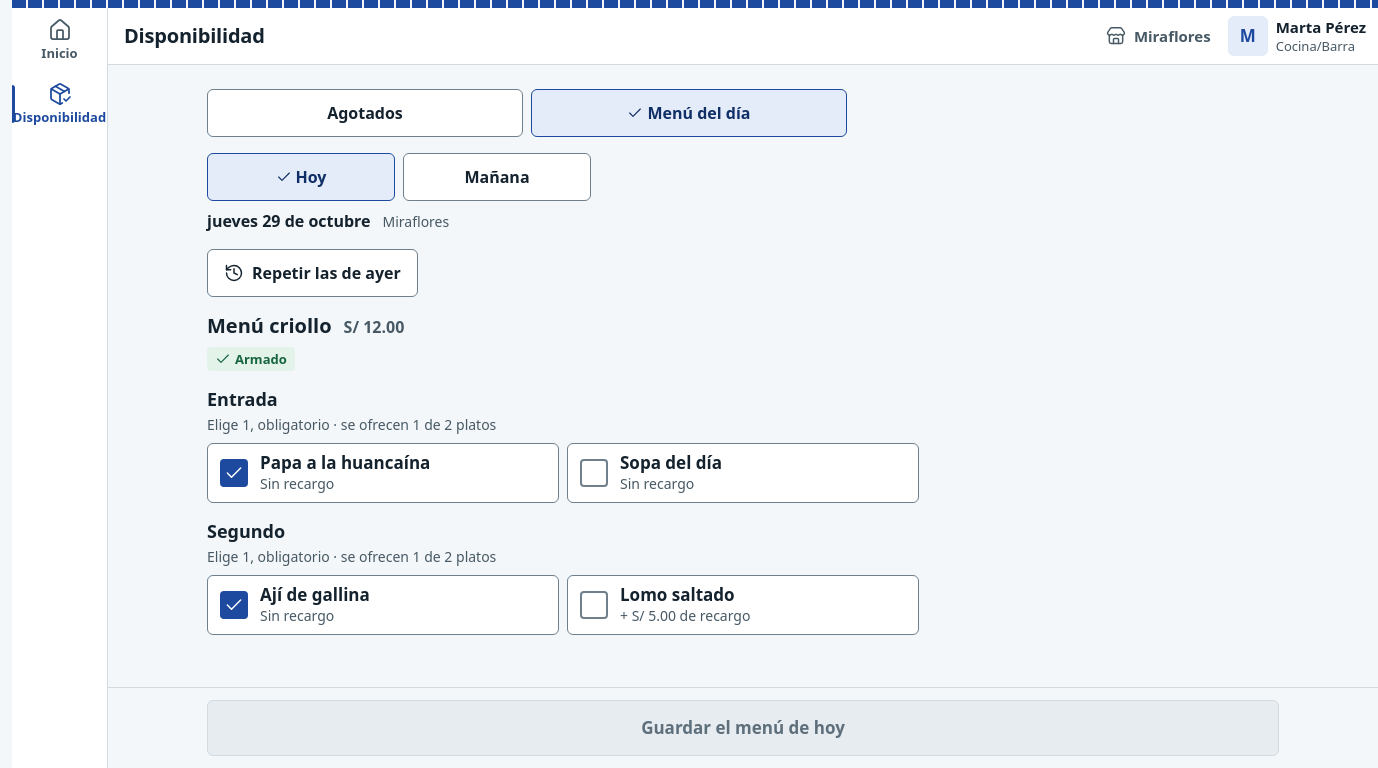
Test: menú del día: armar › lo marcado en un día no se pierde al cambiar de pestaña y se avisa
(page scrolled)
Click the checkbox labelled "Sopa del día Sin recargo".
click(671, 462)  # box [567, 443, 919, 503]
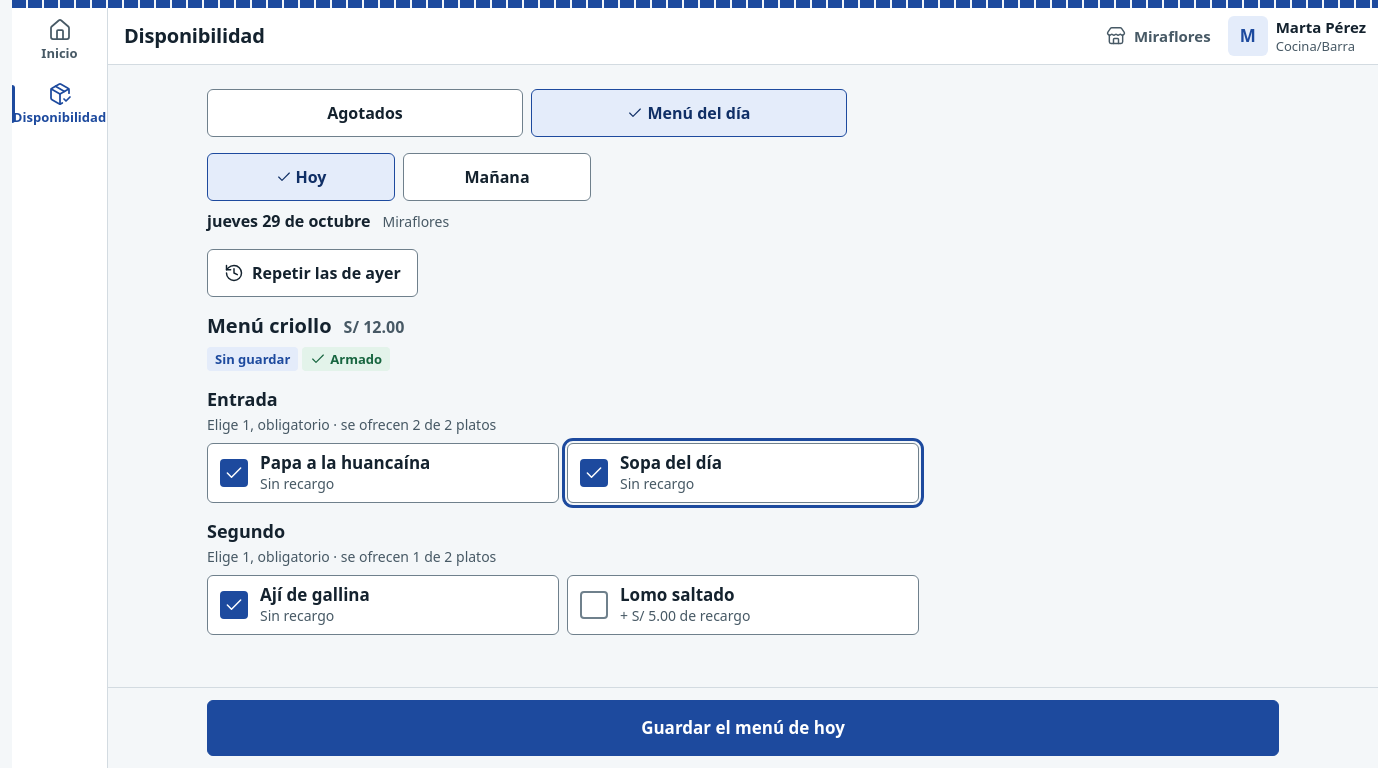
Click the button "Mañana".
click(497, 177)  # box [403, 153, 591, 201]
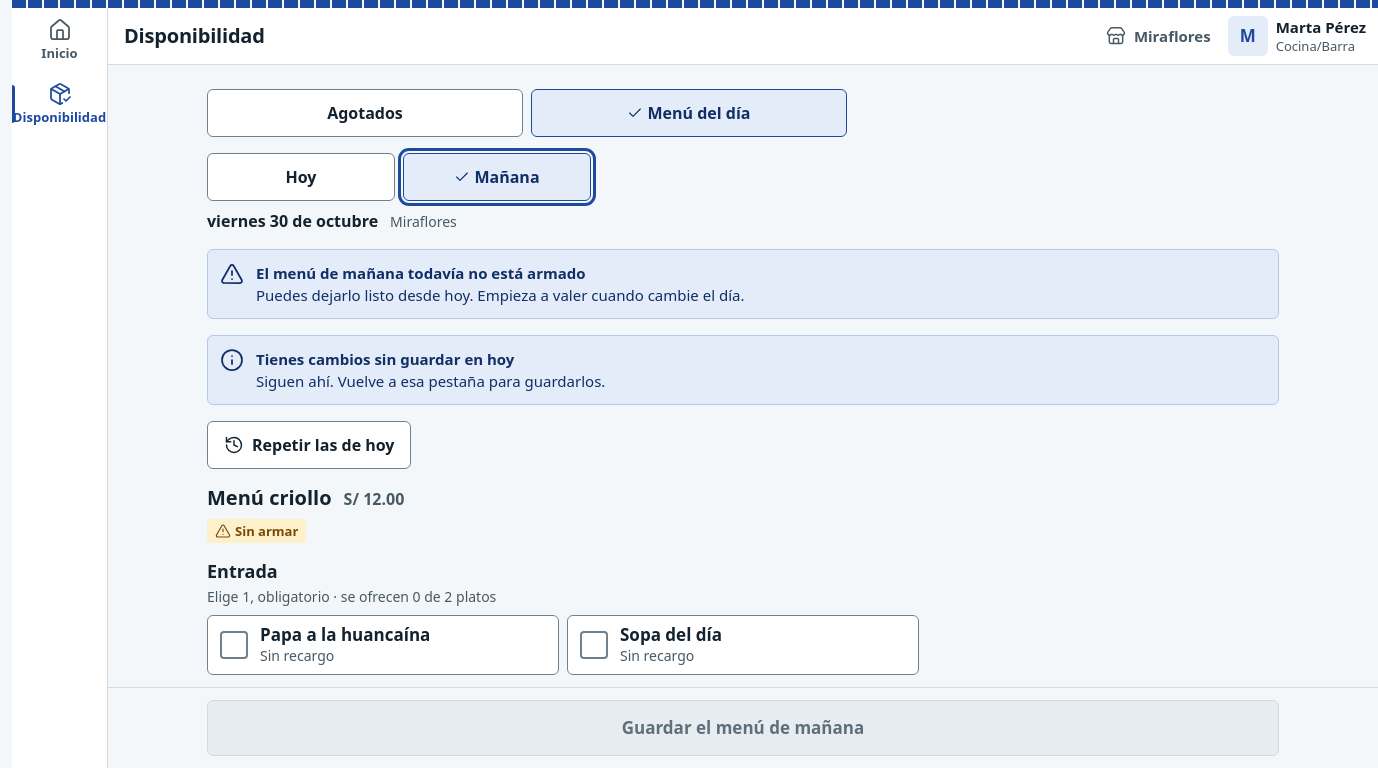
Expected: the text "viernes 30 de octubre" is shown, [207, 209, 378, 233]
Expected: the text "Tienes cambios sin guardar en hoy" is shown, [256, 349, 514, 369]
Click the button "Hoy".
click(301, 177)  # box [207, 153, 395, 201]
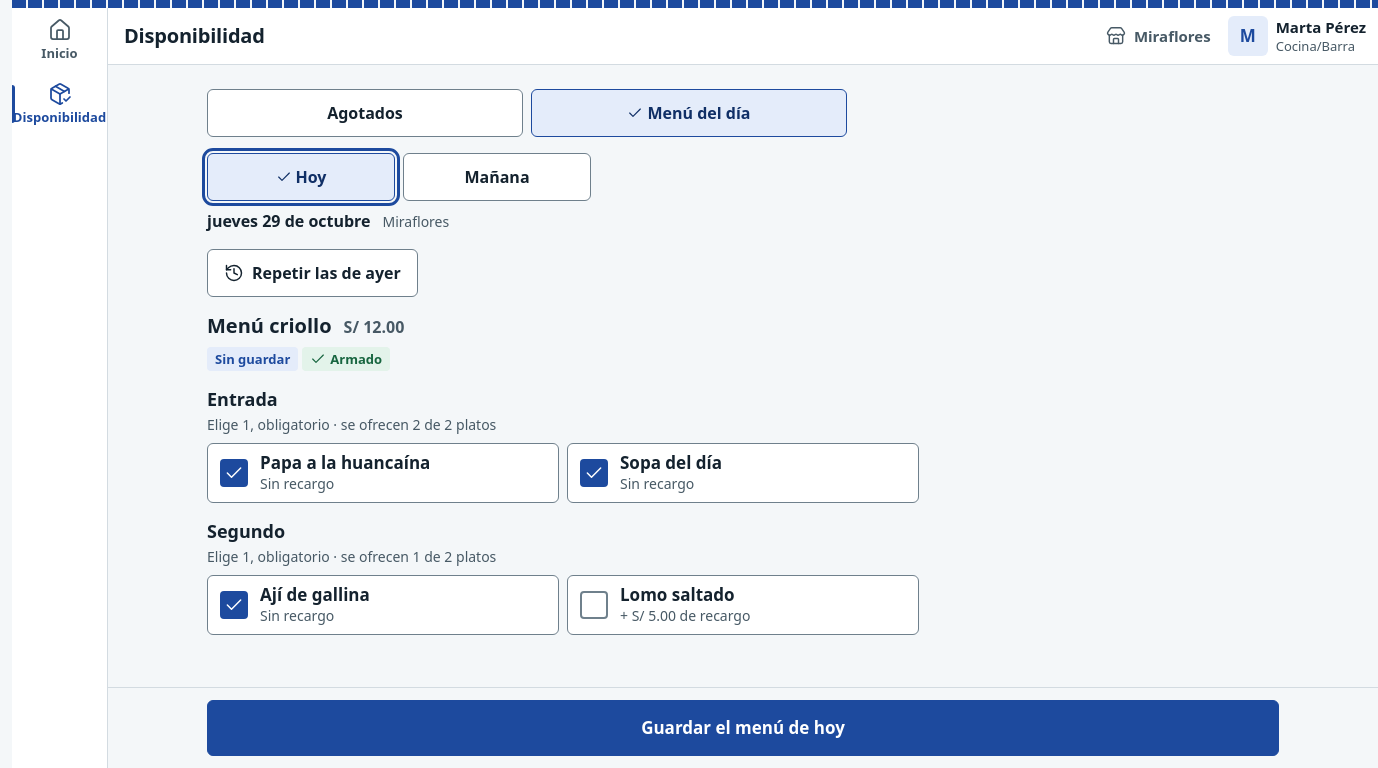
Expected: the checkbox labelled "Sopa del día Sin recargo" is checked, [567, 443, 919, 503]
Expected: the button "Guardar el menú de hoy" is enabled, [207, 700, 1279, 756]
